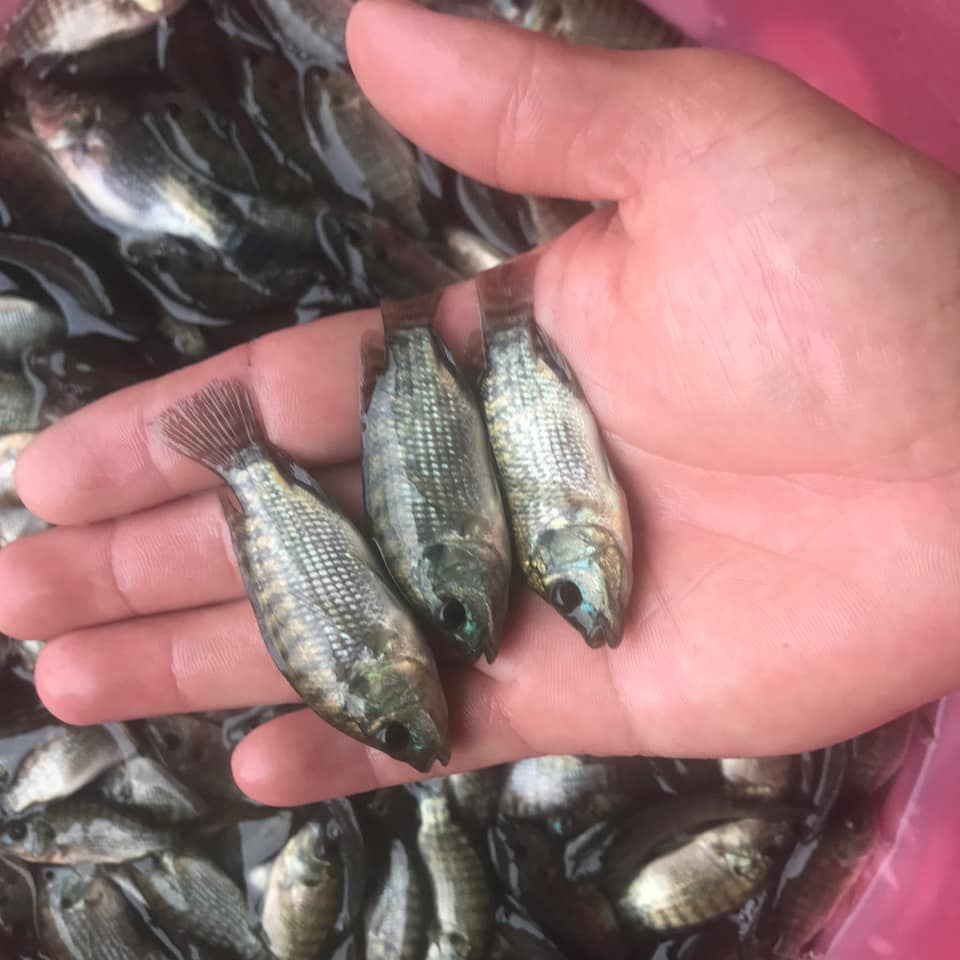fish: (492, 394, 632, 646), (386, 388, 504, 659), (266, 564, 430, 755)
